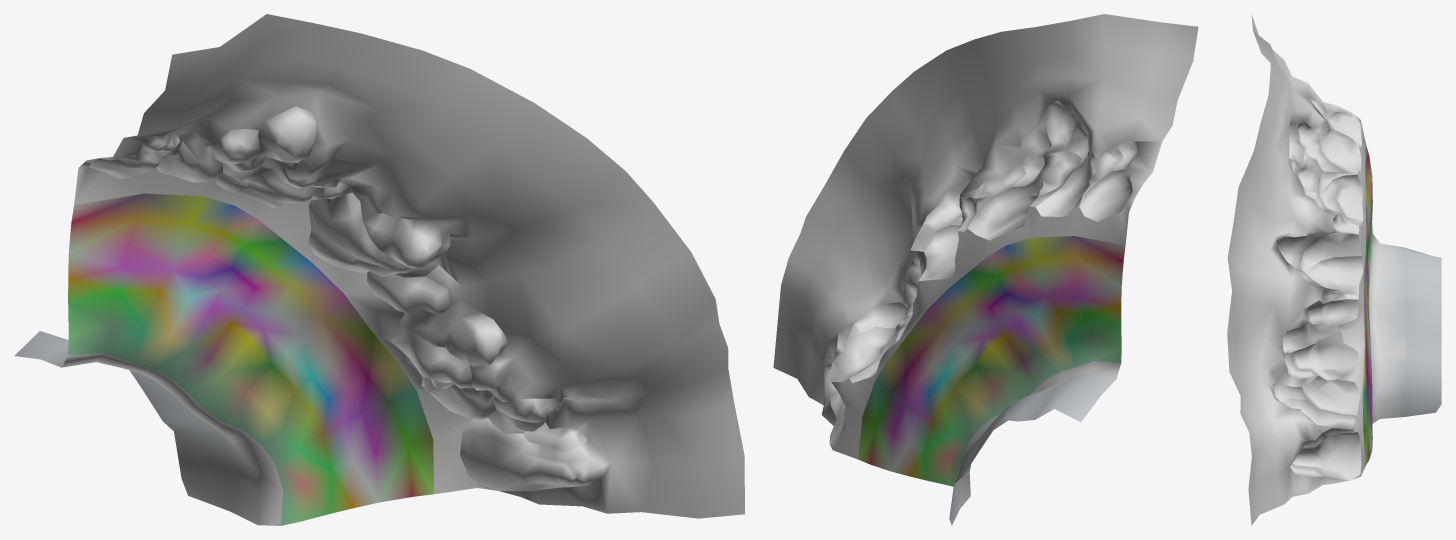
File: Volcano_CurveInA.glb
3 renders of one model, left to right at view 1: azimuth 30°, elevation 25°; view 2: azimuth 150°, elevation 25°; view 3: azimuth 270°, elevation 25°, orthographic. The views are drawn at different scales.
Visible parts, largest first — view 1: MeshNode_0, MeshNode_1; view 2: MeshNode_0, MeshNode_1; view 3: MeshNode_0, MeshNode_1.
Boxes of the visible parts, left/top/right/bottom form: MeshNode_0: left=14, top=14, right=744, bottom=525; MeshNode_1: left=68, top=193, right=434, bottom=525; MeshNode_0: left=773, top=14, right=1198, bottom=525; MeshNode_1: left=858, top=236, right=1125, bottom=486; MeshNode_0: left=1227, top=15, right=1441, bottom=525; MeshNode_1: left=1362, top=144, right=1372, bottom=464.
Bounding box in the file's own units: 128 × 128 × 71.31.
